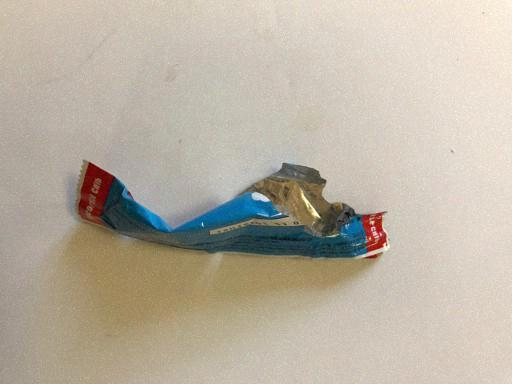trash: (76, 161, 390, 261)
